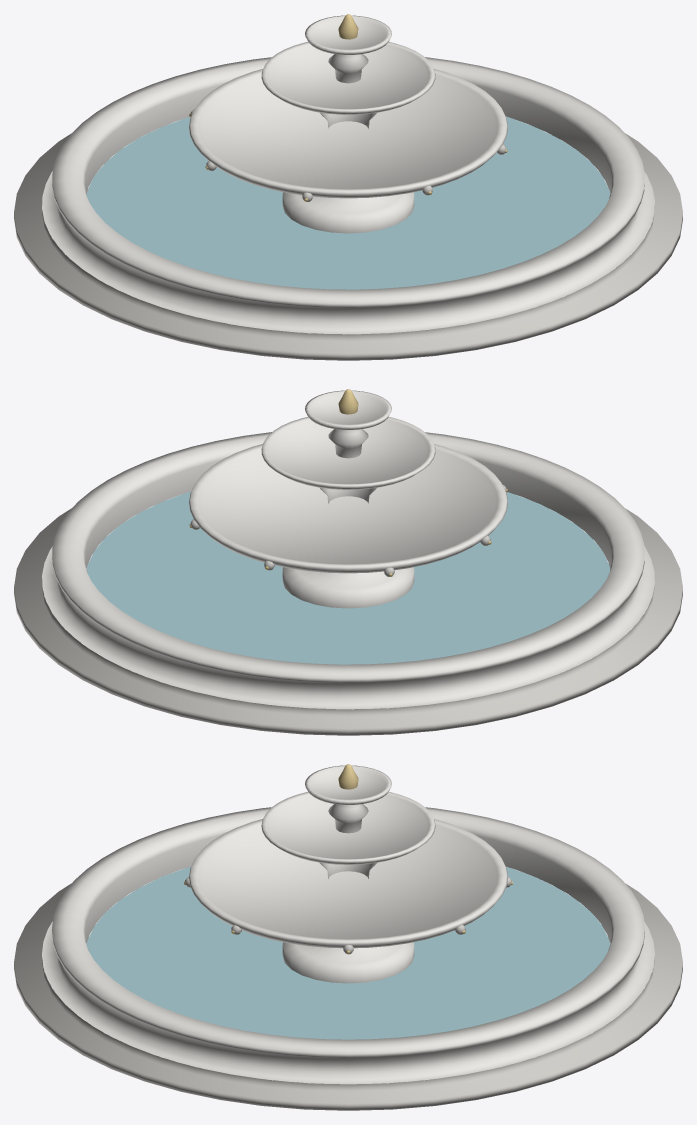
The model's file is fountain_grand.glb.
3 views of the same model, one above another, from view 1: azimuth 30°, elevation 25°; view 2: azimuth 150°, elevation 25°; view 3: azimuth 270°, elevation 25° (orthographic).
Parts seen in each view (by area): view 1: fountain_grand; view 2: fountain_grand; view 3: fountain_grand.
Boxes of the visible parts, bbox=[...] form: fountain_grand: bbox=[14, 14, 682, 360]; fountain_grand: bbox=[14, 389, 682, 735]; fountain_grand: bbox=[14, 764, 682, 1110].
Size of the model in its own units: 13.2 by 4.46 by 13.2.
